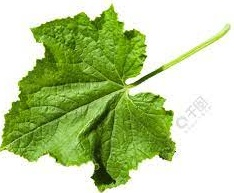cucumber_plant: (3, 13, 231, 188)
